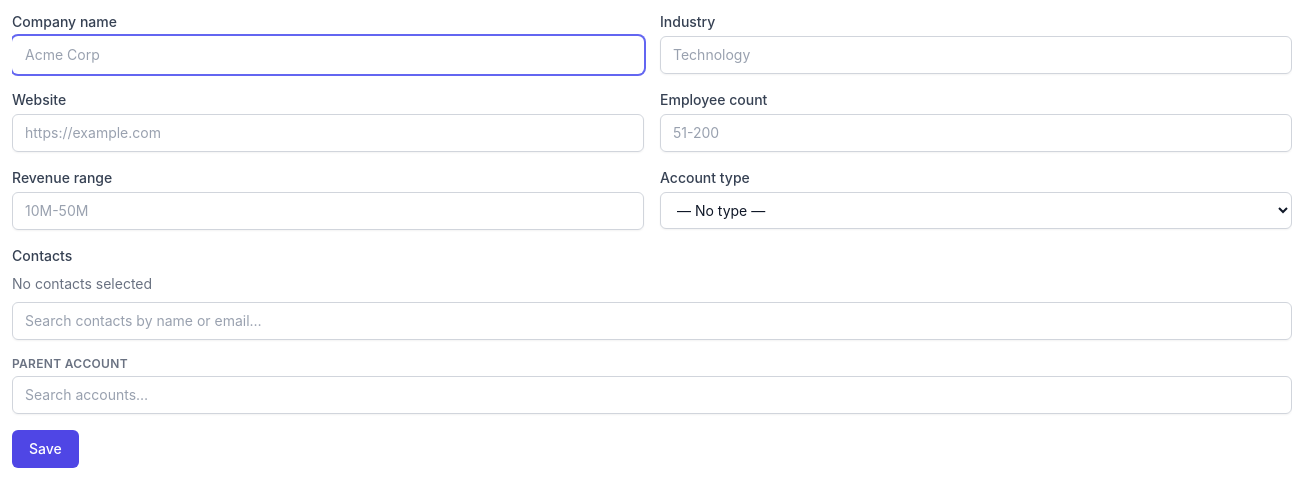
Test case: AccountForm › parent account type-ahead › selects a parent account and hides the search input
Type "Ac" into the field with test id "account-parent-search" at (652, 395), box top-left (12, 376), bottom-right (1292, 414)
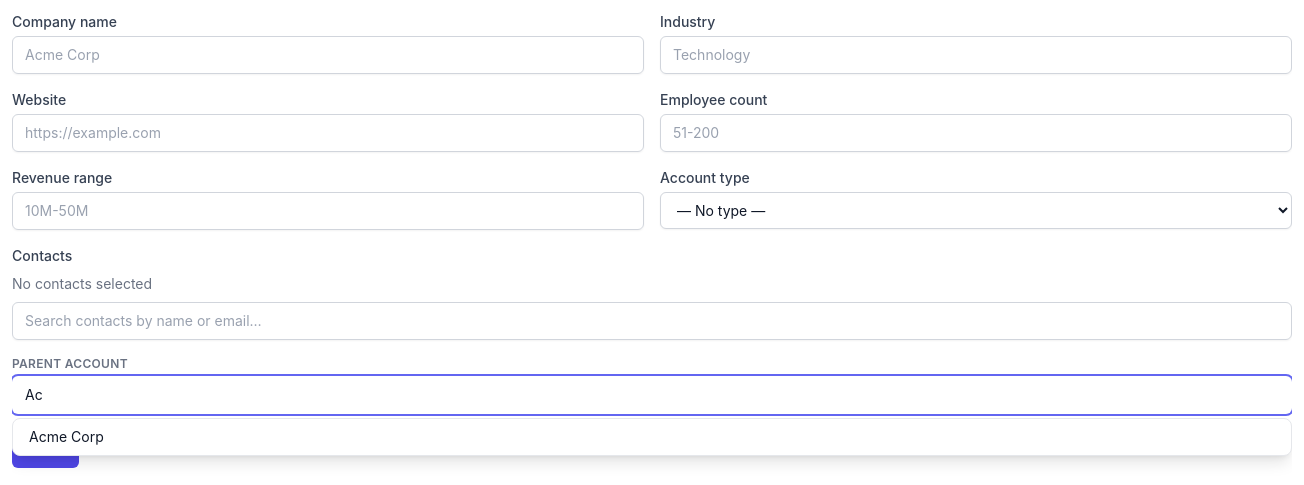
Click the button "Acme Corp" at (66, 436), box top-left (13, 419), bottom-right (1291, 455)
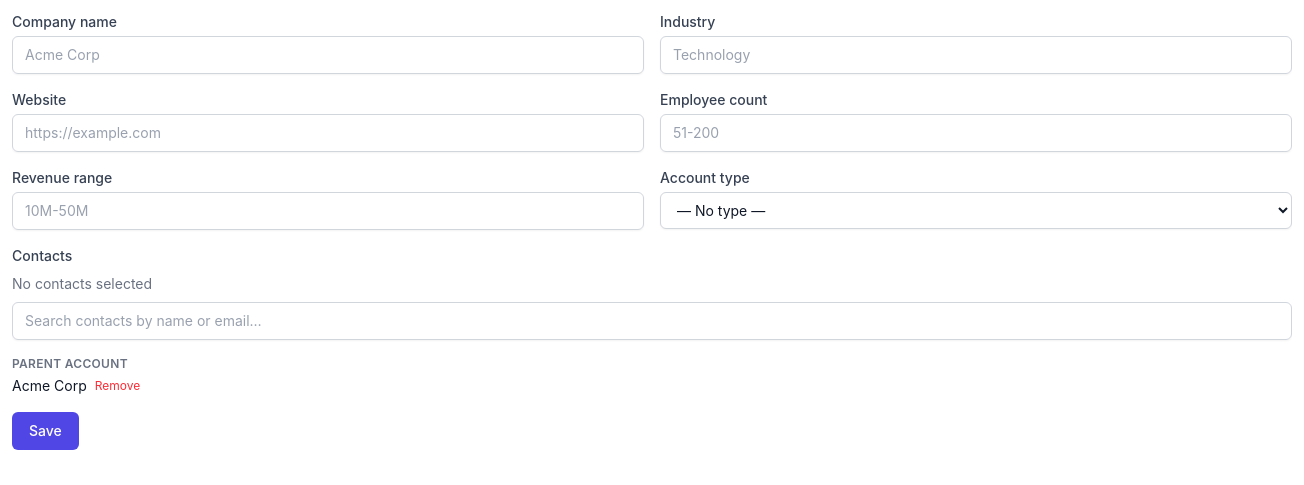
Expected: the text with test id "account-parent-selected-name" reads "Acme Corp", top-left (12, 377), bottom-right (87, 394)
Expected: the field with test id "account-parent-search" is gone
